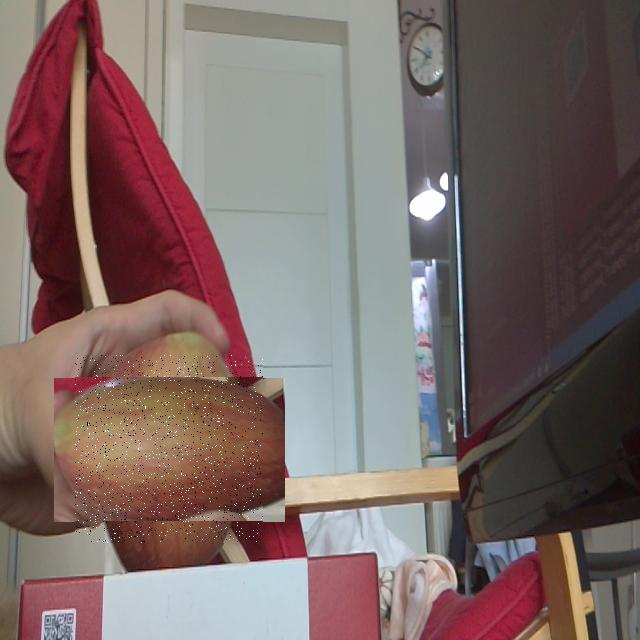apple: (75, 356, 264, 544)
